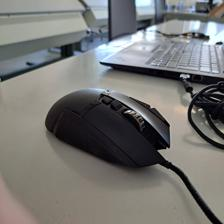mouse: (44, 86, 171, 171)
